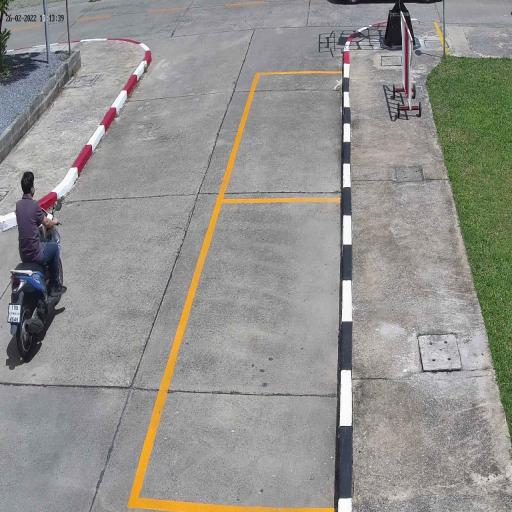motorcycle: (6, 252, 66, 362)
